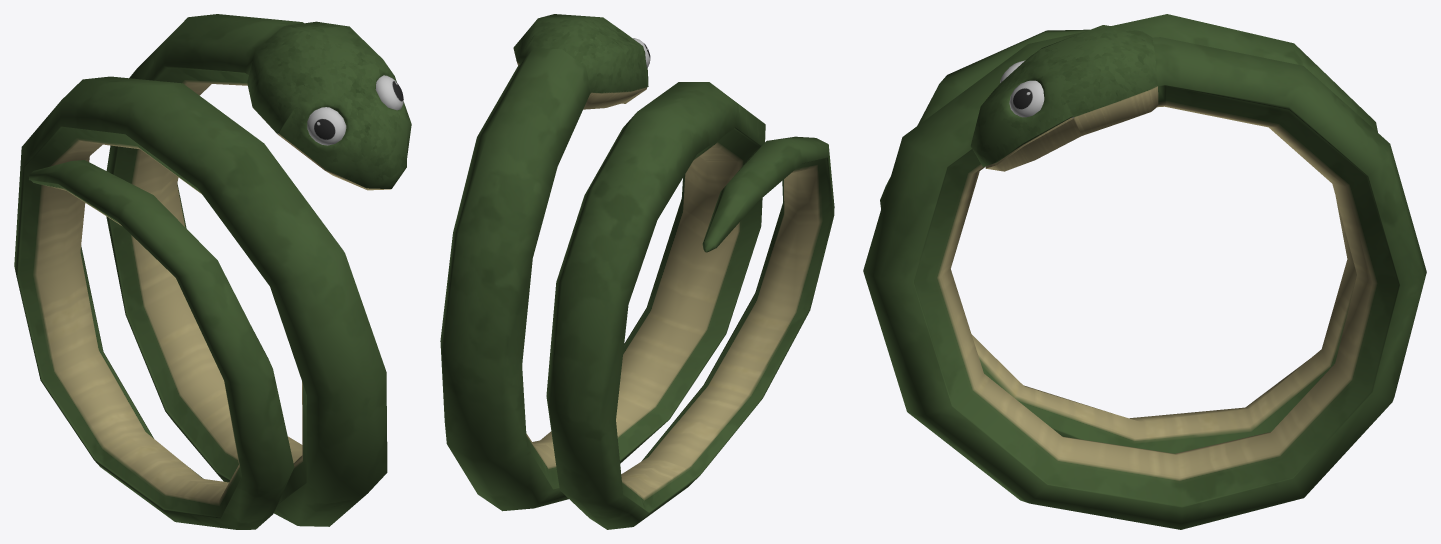
Rendered from Snake_Arm.fbx.
3 renders of one model, left to right at view 1: azimuth 30°, elevation 25°; view 2: azimuth 150°, elevation 25°; view 3: azimuth 270°, elevation 25°, orthographic. The views are drawn at different scales.
Parts seen in each view (by area): view 1: Cylinder109; view 2: Cylinder109; view 3: Cylinder109.
Part boxes in pixels (x1=…): Cylinder109: x1=14, y1=14, x2=411, y2=529; Cylinder109: x1=440, y1=14, x2=834, y2=529; Cylinder109: x1=863, y1=14, x2=1426, y2=529.
Bounding box in the file's own units: 24.53 × 38.73 × 39.
